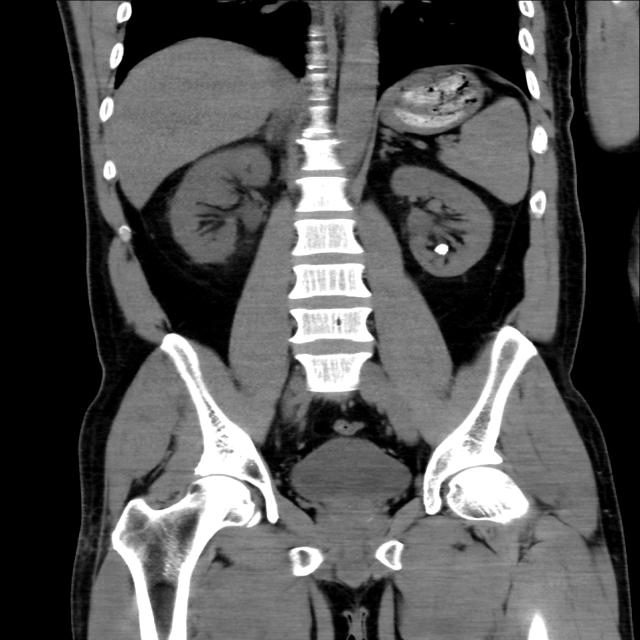kidneystone: (433, 242, 449, 255)
